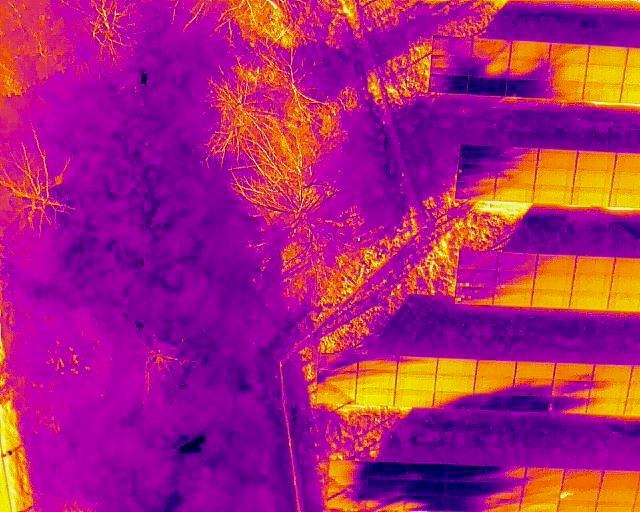Cell: (494, 271, 534, 289)
Cell-Multi: (458, 269, 495, 288), (455, 288, 493, 305)
No-Anomaly: (589, 46, 628, 66), (510, 40, 550, 59), (585, 65, 625, 83), (574, 257, 614, 275), (534, 273, 574, 291), (492, 289, 532, 307), (531, 290, 571, 308), (535, 169, 574, 187), (536, 255, 575, 273), (592, 365, 631, 383), (538, 150, 576, 168), (574, 170, 612, 188), (582, 84, 622, 101), (357, 373, 397, 390), (586, 398, 626, 415), (435, 360, 477, 376), (577, 152, 614, 170), (570, 291, 608, 308), (514, 362, 557, 377), (597, 486, 637, 502), (572, 188, 609, 205), (494, 186, 533, 202), (396, 376, 435, 392), (573, 275, 611, 291), (476, 362, 516, 377), (434, 377, 474, 392), (356, 390, 396, 405), (607, 292, 640, 310), (522, 483, 561, 498), (394, 392, 433, 407), (535, 188, 571, 204), (602, 471, 640, 486), (564, 469, 601, 484), (525, 468, 564, 482), (521, 498, 559, 511)
Shadowing: (509, 59, 550, 80), (431, 55, 470, 76), (461, 144, 500, 165), (549, 44, 588, 64), (470, 57, 509, 77), (467, 77, 508, 96), (507, 79, 548, 98), (454, 181, 494, 200), (434, 36, 471, 56), (456, 165, 497, 183), (460, 250, 498, 269), (471, 38, 509, 57), (501, 148, 537, 168), (396, 358, 438, 375), (473, 378, 515, 395), (513, 378, 554, 395), (445, 464, 486, 481), (429, 75, 467, 93), (498, 253, 536, 271), (358, 355, 398, 372), (498, 168, 535, 186), (367, 463, 406, 480), (317, 355, 358, 371), (472, 395, 513, 411), (366, 480, 407, 496), (548, 64, 584, 82), (546, 82, 582, 100), (408, 463, 446, 480), (554, 365, 594, 381), (589, 381, 629, 397), (432, 392, 472, 408), (318, 372, 357, 388), (551, 382, 590, 398), (549, 399, 588, 415), (487, 466, 526, 482), (512, 396, 550, 412), (329, 477, 367, 493), (445, 497, 485, 512), (407, 481, 444, 497), (317, 389, 356, 404), (367, 496, 408, 510), (445, 483, 486, 497), (328, 463, 367, 477), (485, 483, 523, 497), (484, 498, 522, 512), (328, 494, 366, 507), (408, 497, 443, 510)
Unclassified: (560, 485, 598, 500)
